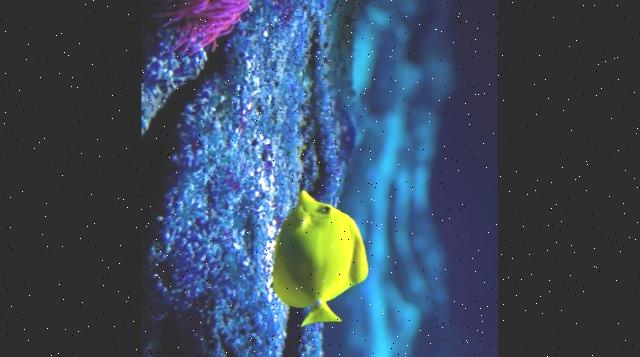Mulut: (287, 178, 316, 208)
Sirip Anal: (263, 256, 314, 308)
Sirip Ekor: (295, 302, 346, 330)
Sirip Punggung: (324, 219, 372, 302)
